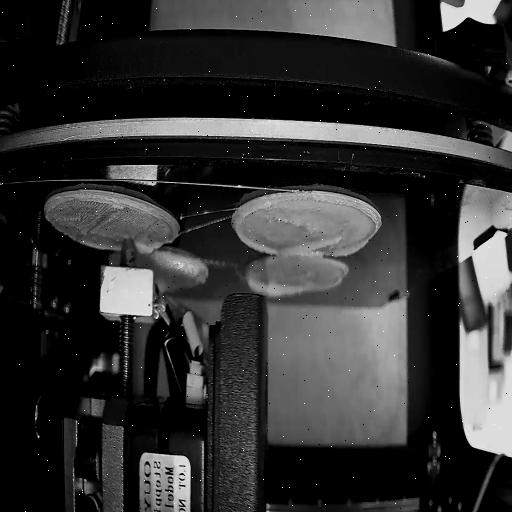over_extrusion: (282, 232, 368, 260), (234, 216, 277, 256), (246, 276, 306, 294), (135, 240, 159, 256)
